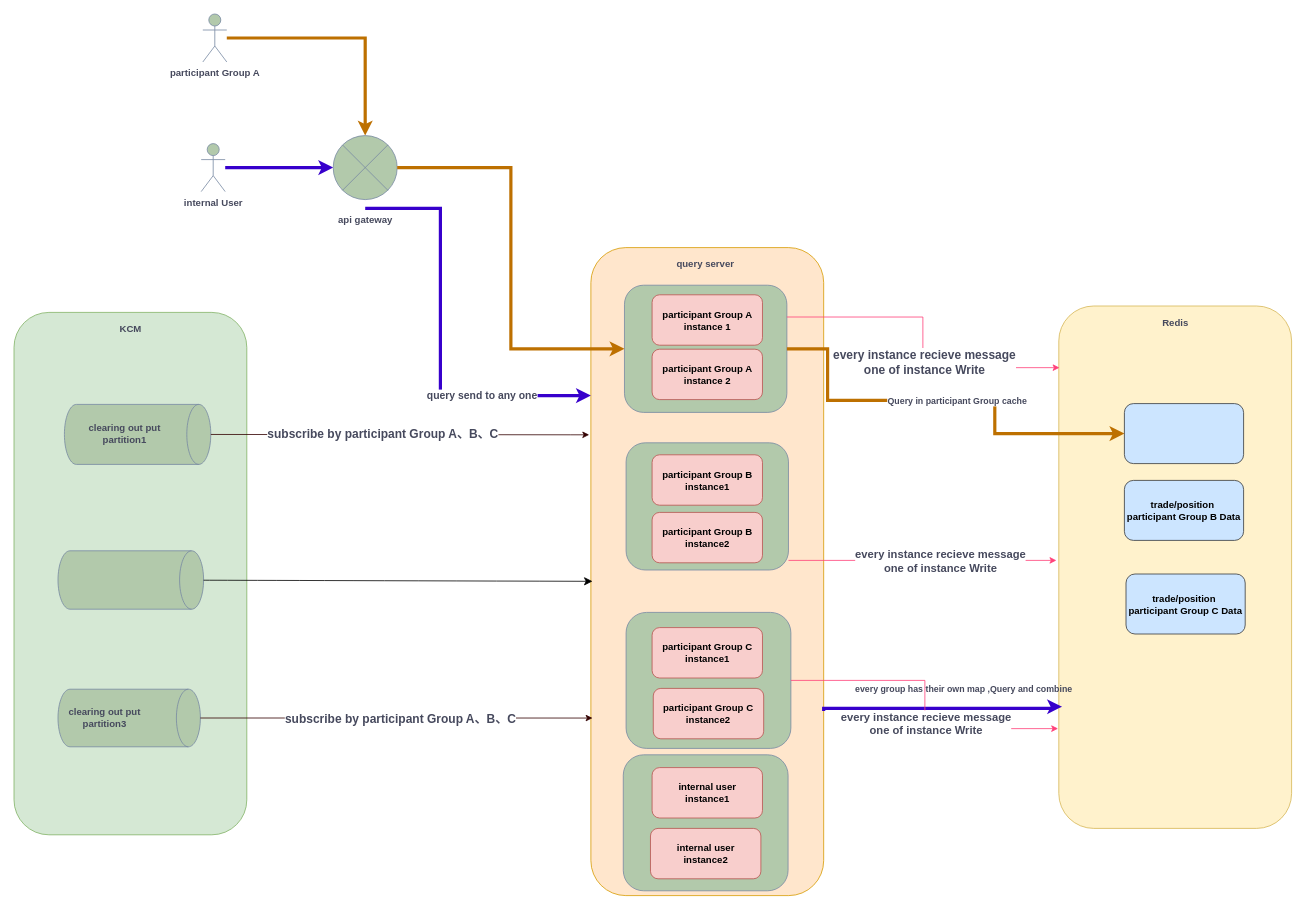
The diagram is 1306 pixels wide and 910 high, and some of its shapes have lost their labels. Each missing label, with the centre of its shape:
clearing out put partition2: (130,579)
trade/position participant Group A Data: (1184,433)
